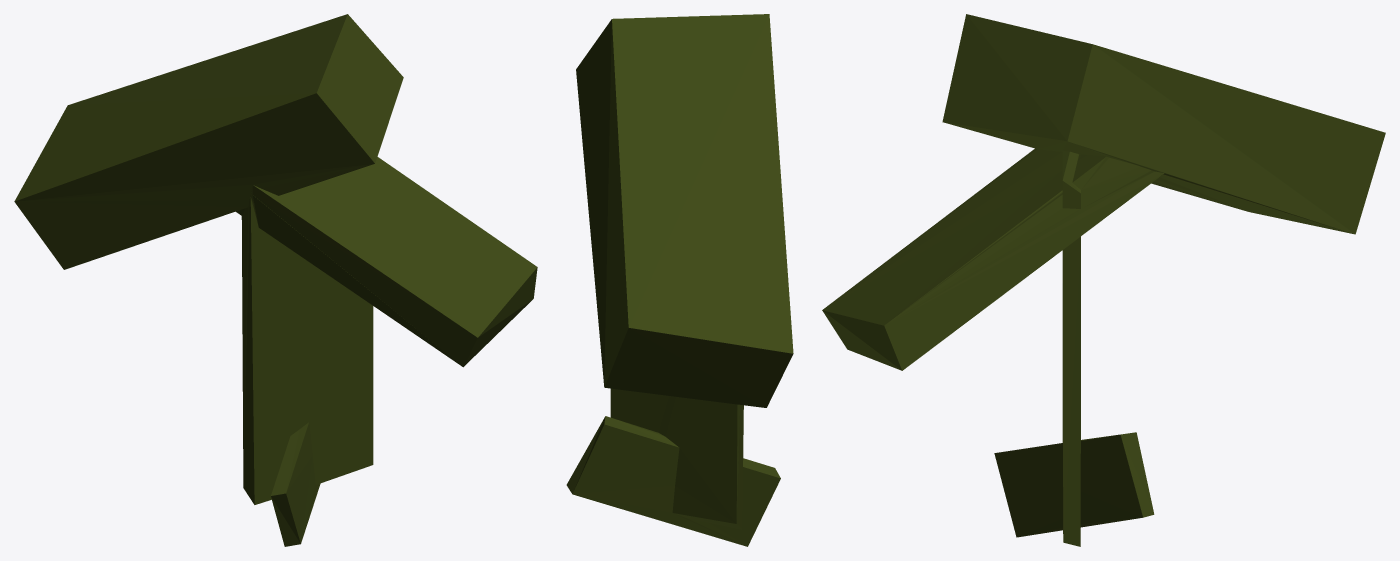
3 views of the same model, side by side, from view 1: azimuth 30°, elevation 25°; view 2: azimuth 150°, elevation 25°; view 3: azimuth 270°, elevation 25° (orthographic). The views are drawn at different scales.
Parts seen in each view (by area): view 1: 851_Cube.3436; view 2: 851_Cube.3436; view 3: 851_Cube.3436.
Boxes of the visible parts, bbox=[...] form: 851_Cube.3436: bbox=[14, 14, 537, 546]; 851_Cube.3436: bbox=[566, 14, 793, 546]; 851_Cube.3436: bbox=[822, 14, 1385, 546].
Size of the model in its own units: 13.44 by 17.85 by 16.9.
